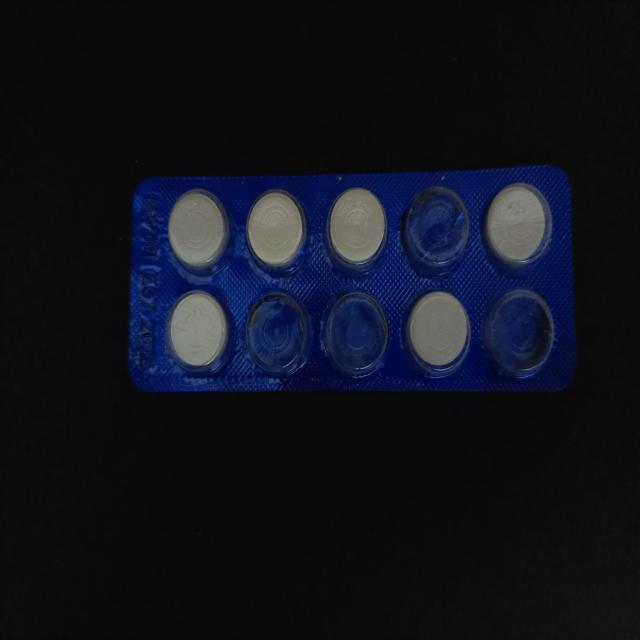defect: (482, 284, 557, 382), (318, 288, 392, 385), (400, 184, 472, 278), (243, 290, 314, 380)
